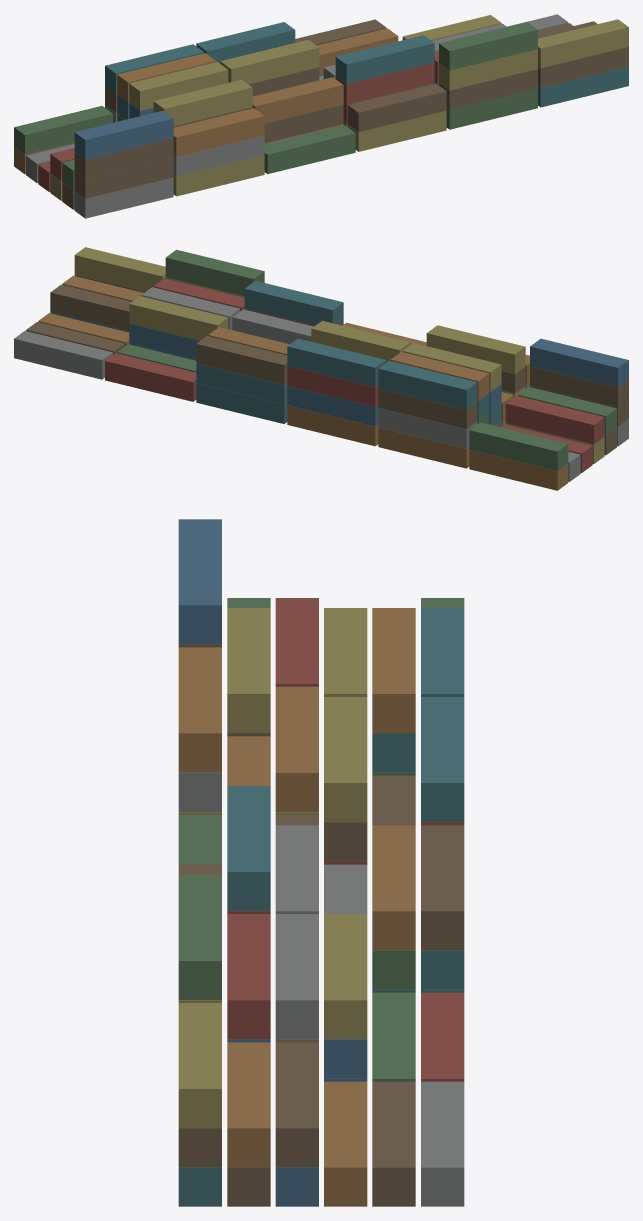
File: container_stack_4.glb
3 renders of one model, top to bottom at view 1: azimuth 30°, elevation 25°; view 2: azimuth 150°, elevation 25°; view 3: azimuth 270°, elevation 25°, orthographic. The views are drawn at different scales.
Parts seen in each view (by area): view 1: LOD0; view 2: LOD0; view 3: LOD0.
Part boxes in pixels (x1,y1,x2,y2): LOD0: (14, 14, 628, 218); LOD0: (14, 247, 628, 490); LOD0: (178, 519, 464, 1206).
Size of what is drawn, in the model's own units: 75.2 by 10.38 by 17.1.
